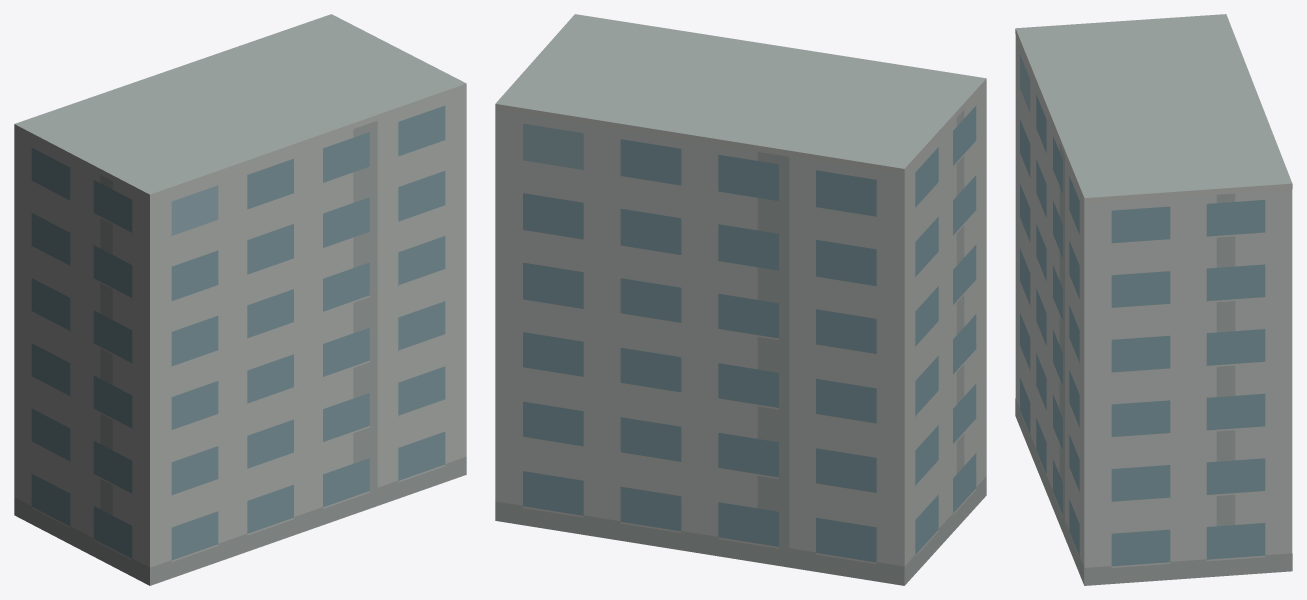
Rendered from survey-upis-32928783.glb.
3 views of the same model, side by side, from view 1: azimuth 30°, elevation 25°; view 2: azimuth 150°, elevation 25°; view 3: azimuth 270°, elevation 25° (orthographic). The views are drawn at different scales.
Parts seen in each view (by area): view 1: survey-upis-32928783.tmp; view 2: survey-upis-32928783.tmp; view 3: survey-upis-32928783.tmp.
Part boxes in pixels (x1,y1,x2,y2): survey-upis-32928783.tmp: (14,14,466,585); survey-upis-32928783.tmp: (495,14,986,585); survey-upis-32928783.tmp: (1015,14,1292,585).
Size of the model in its own units: 16.67 by 16.35 by 10.6.
